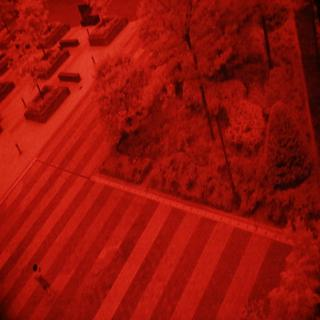person: (27, 257, 60, 304)
